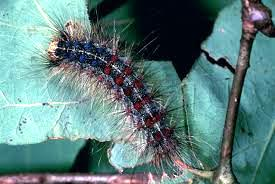Caterpillar: (50, 27, 183, 167)
